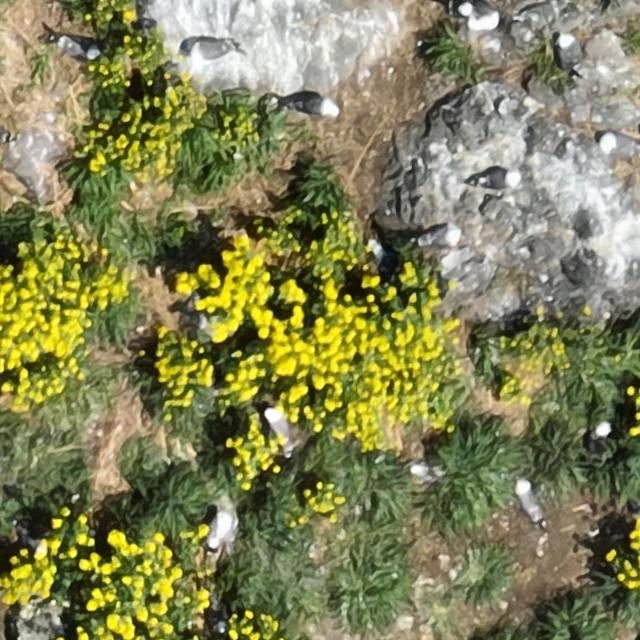umineko: (208, 492, 242, 552), (185, 40, 231, 75), (266, 406, 292, 448), (516, 483, 542, 524), (292, 95, 336, 115), (465, 2, 498, 28), (58, 38, 94, 61), (421, 226, 460, 247), (602, 134, 639, 155), (479, 168, 517, 188), (560, 36, 580, 70)
